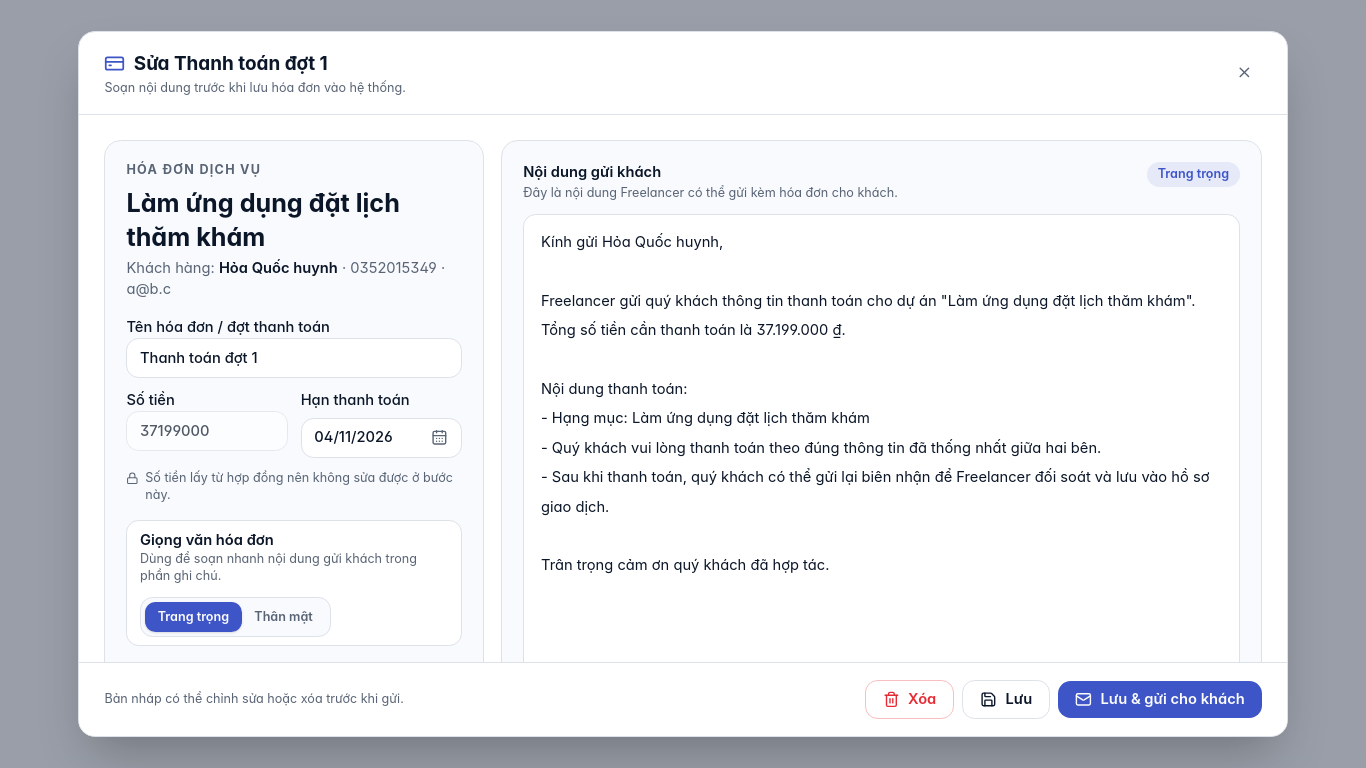
Scenario: xem lại trước khi gửi › bấm gửi CHƯA gửi gì — hỏi lại đã, vì thư đi rồi thì không thu hồi được
This screenshot has width=1366, height=768.
Step 1. Click the button "Lưu & gửi cho khách" → (1160, 700), box [1058, 681, 1262, 718]
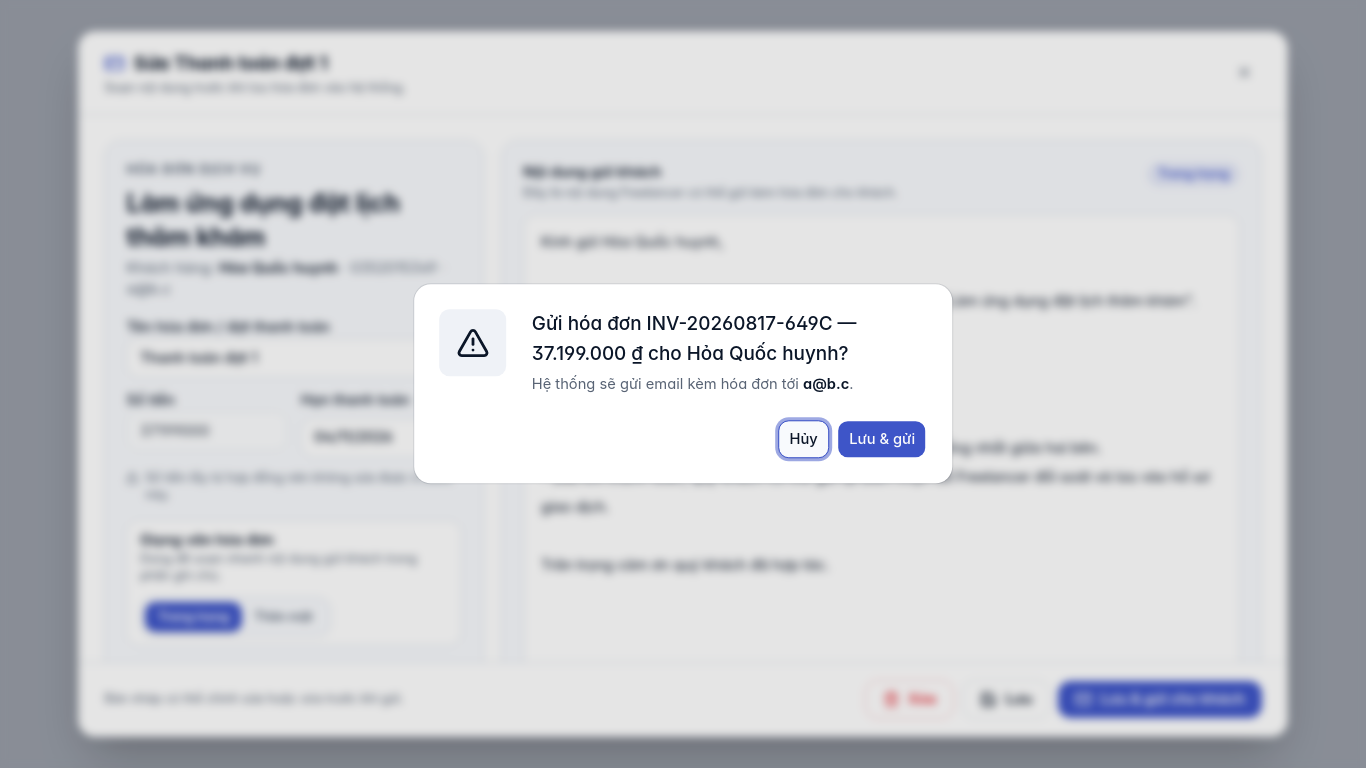
Result: the dialog shows "INV-20260817-649C" at [532, 312, 856, 365]
Result: the dialog shows "37.199.000" at [532, 312, 856, 365]
Result: the dialog shows "a@b.c" at [803, 376, 849, 394]
